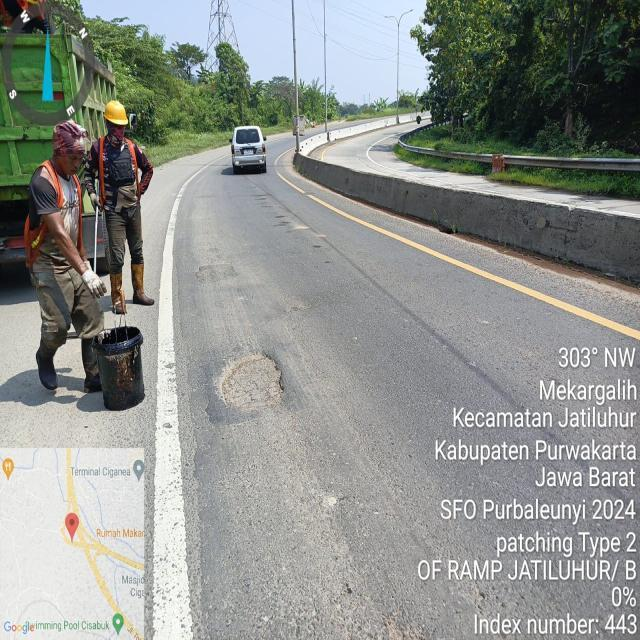Buraco: (213, 349, 288, 415)
